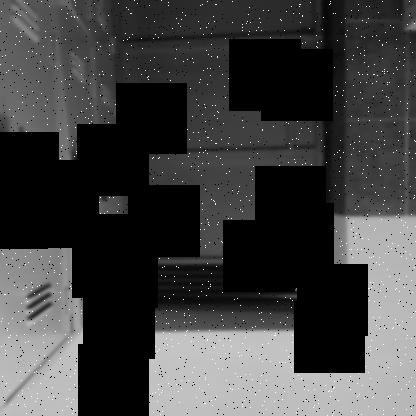Porte: (106, 1, 348, 332)
